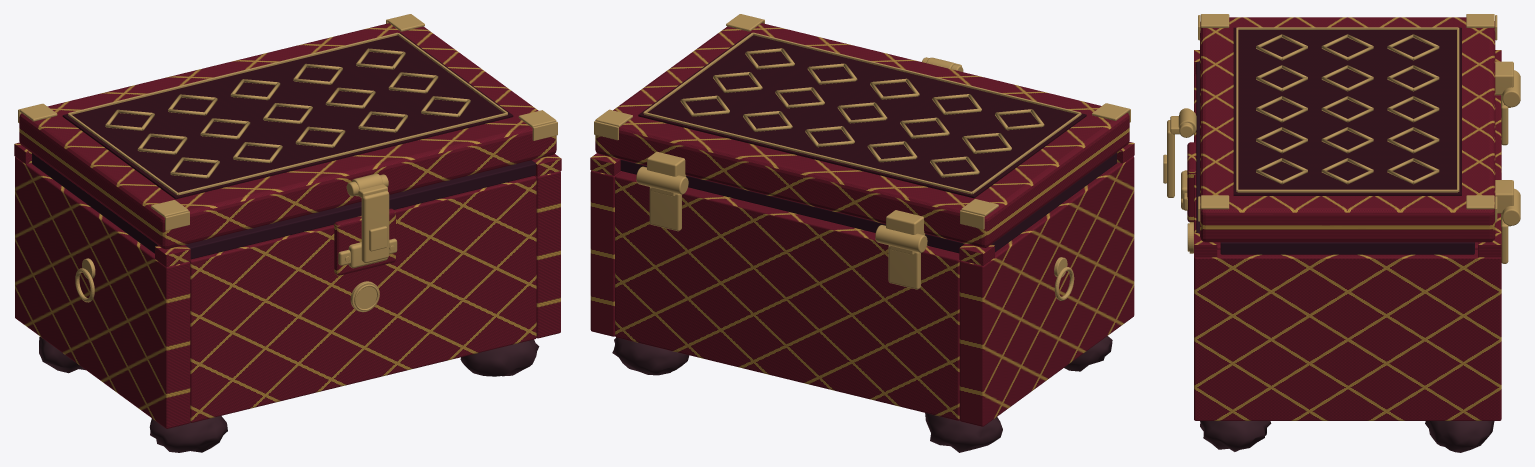
Rendered from malaysia.glb.
3 views of the same model, side by side, from view 1: azimuth 30°, elevation 25°; view 2: azimuth 150°, elevation 25°; view 3: azimuth 270°, elevation 25° (orthographic).
Visible parts, largest first — view 1: Songket / front rear skin, Songket / crimson carrier, Lid / polished slab, Songket / side skin, Mineral seam / long, Songket / side skin.001, Granite foot, Granite foot.002, Latch / lifting hasp, Songket / clasp seat, Mineral seam / side, Songket / gold border long (+4 smaller); view 2: Songket / front rear skin.001, Songket / crimson carrier, Lid / polished slab, Songket / side skin, Songket / side skin.001, Mineral seam / long.001, Granite foot.001, Granite foot.003, Mineral seam / side, Hinge / fixed mount.001, Hinge / fixed mount, Songket / gold border long.001 (+7 smaller); view 3: Songket / side skin.001, Songket / crimson carrier, Lid / polished slab, Mineral seam / side.001, Granite foot.002, Granite foot.003, Songket / gold border side.001, Songket / front rear skin.001, Songket / gold border side, Songket / clasp seat, Mineral seam / long, Hinge / moving leaf (+12 smaller).
Boxes of the visible parts, left/top/right/bottom form: Songket / front rear skin: left=190, top=176, right=536, bottom=422; Songket / crimson carrier: left=62, top=32, right=513, bottom=199; Lid / polished slab: left=19, top=23, right=556, bottom=249; Songket / side skin: left=15, top=157, right=190, bottom=428; Mineral seam / long: left=185, top=160, right=535, bottom=259; Songket / side skin.001: left=534, top=171, right=560, bottom=338; Granite foot: left=149, top=416, right=227, bottom=452; Granite foot.002: left=460, top=339, right=539, bottom=376; Latch / lifting hasp: left=361, top=191, right=389, bottom=263; Songket / clasp seat: left=334, top=208, right=395, bottom=275; Mineral seam / side: left=32, top=153, right=158, bottom=253; Songket / gold border long: left=178, top=112, right=507, bottom=195; Songket / front rear skin.001: left=615, top=171, right=959, bottom=420; Songket / crimson carrier: left=638, top=32, right=1086, bottom=198; Lid / polished slab: left=595, top=23, right=1129, bottom=247; Songket / side skin: left=959, top=156, right=1134, bottom=426; Songket / side skin.001: left=590, top=170, right=621, bottom=336; Mineral seam / long.001: left=620, top=159, right=964, bottom=253; Granite foot.001: left=925, top=413, right=1002, bottom=452; Granite foot.003: left=612, top=337, right=689, bottom=375; Mineral seam / side: left=991, top=152, right=1116, bottom=252; Hinge / fixed mount.001: left=649, top=187, right=681, bottom=231; Hinge / fixed mount: left=888, top=245, right=920, bottom=289; Songket / gold border long.001: left=644, top=112, right=971, bottom=194; Songket / side skin.001: left=1194, top=249, right=1501, bottom=420; Songket / crimson carrier: left=1233, top=27, right=1461, bottom=195; Lid / polished slab: left=1200, top=17, right=1495, bottom=242; Mineral seam / side.001: left=1220, top=242, right=1474, bottom=254; Granite foot.002: left=1200, top=421, right=1271, bottom=451; Granite foot.003: left=1425, top=421, right=1494, bottom=452; Songket / gold border side.001: left=1237, top=189, right=1457, bottom=192; Songket / front rear skin.001: left=1495, top=95, right=1501, bottom=232; Songket / gold border side: left=1237, top=27, right=1457, bottom=29; Songket / clasp seat: left=1187, top=142, right=1196, bottom=222; Mineral seam / long: left=1196, top=61, right=1199, bottom=232; Hinge / moving leaf: left=1495, top=61, right=1513, bottom=95.
Bounding box in the file's own units: 3.79 × 2.33 × 2.88.
Materials: 5 (2 with a texture image).
